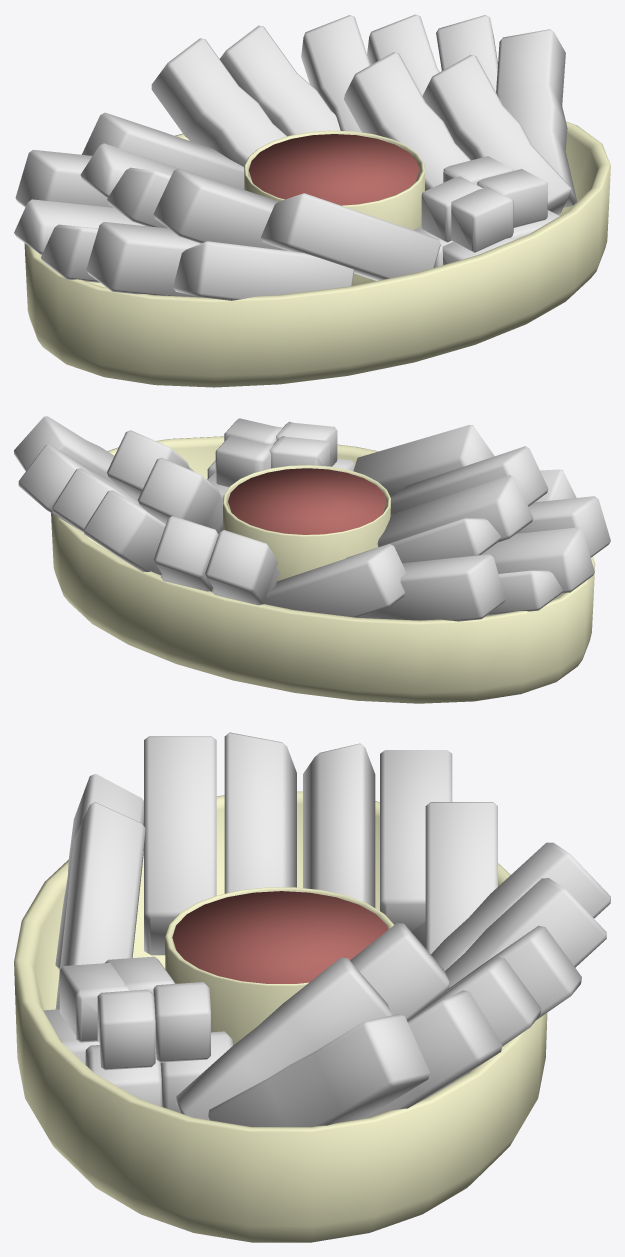
The model's file is Fish_Bait.fbx.
3 renders of one model, top to bottom at view 1: azimuth 30°, elevation 25°; view 2: azimuth 150°, elevation 25°; view 3: azimuth 270°, elevation 25°, orthographic. The views are drawn at different scales.
Visible parts, largest first — view 1: Fish_Bait; view 2: Fish_Bait; view 3: Fish_Bait.
Part boxes in pixels (box(x1,y1,x2,y2)): Fish_Bait: box(14, 14, 610, 387); Fish_Bait: box(14, 416, 610, 703); Fish_Bait: box(14, 732, 610, 1242).
Size of the model in its own units: 137 by 42.96 by 98.31.
